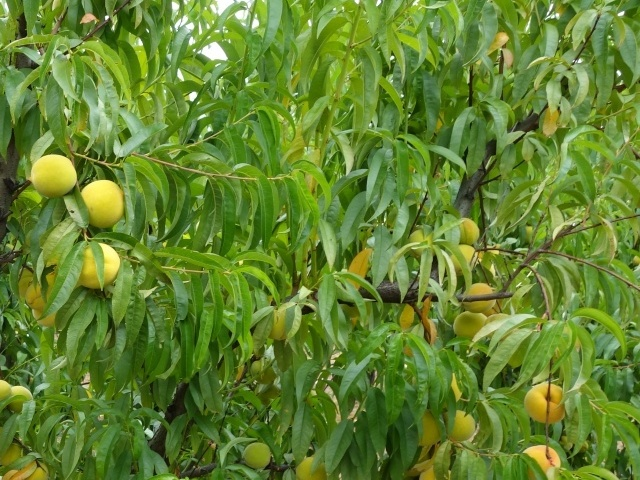peach: (79, 175, 127, 232), (522, 375, 570, 432), (28, 151, 80, 199), (76, 241, 124, 290), (518, 440, 565, 477), (443, 404, 481, 446), (453, 307, 491, 345), (459, 281, 499, 316), (445, 239, 478, 276), (25, 277, 56, 316), (27, 303, 65, 333), (454, 214, 486, 248), (402, 225, 438, 255), (242, 438, 273, 471), (8, 382, 34, 410)
